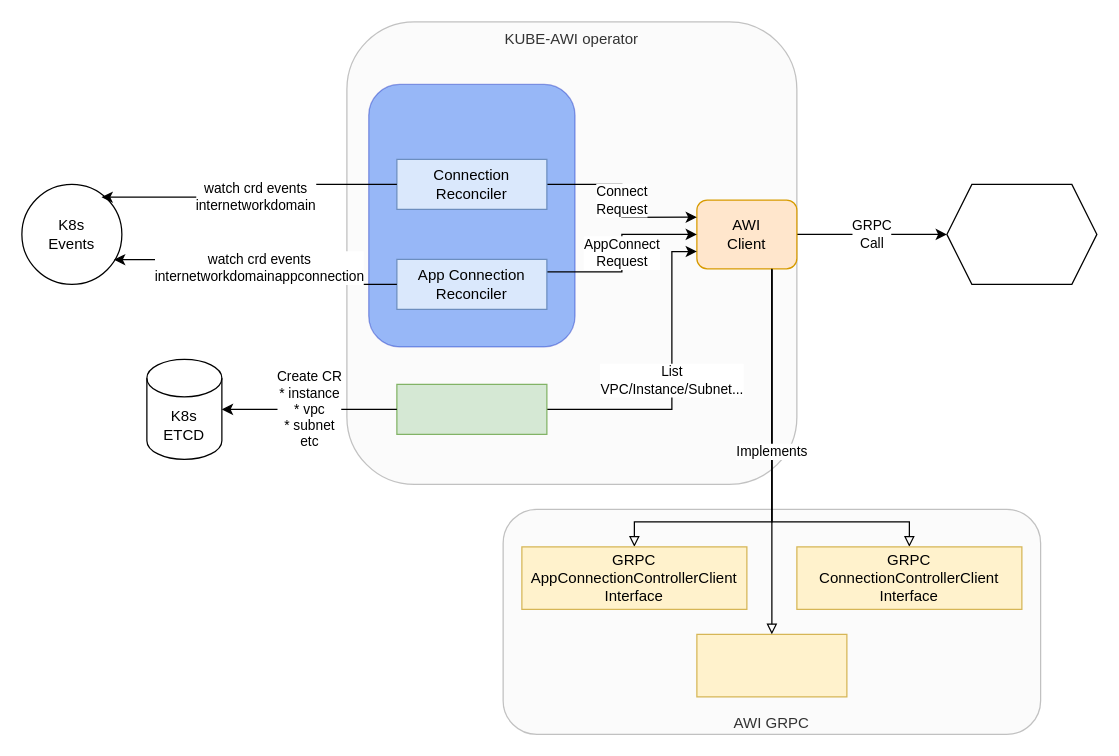
Some shapes in this 1119 by 756 pixel diagram are drawn without their labels. Each missing label, with the box of its shape:
awi grpc catalyst sdwan: (946, 183, 1097, 284)
GRPC CloudClient Interface: (696, 633, 847, 697)
Kubebuilder Controllers: (368, 83, 575, 347)
SYNCER: (396, 383, 547, 434)
